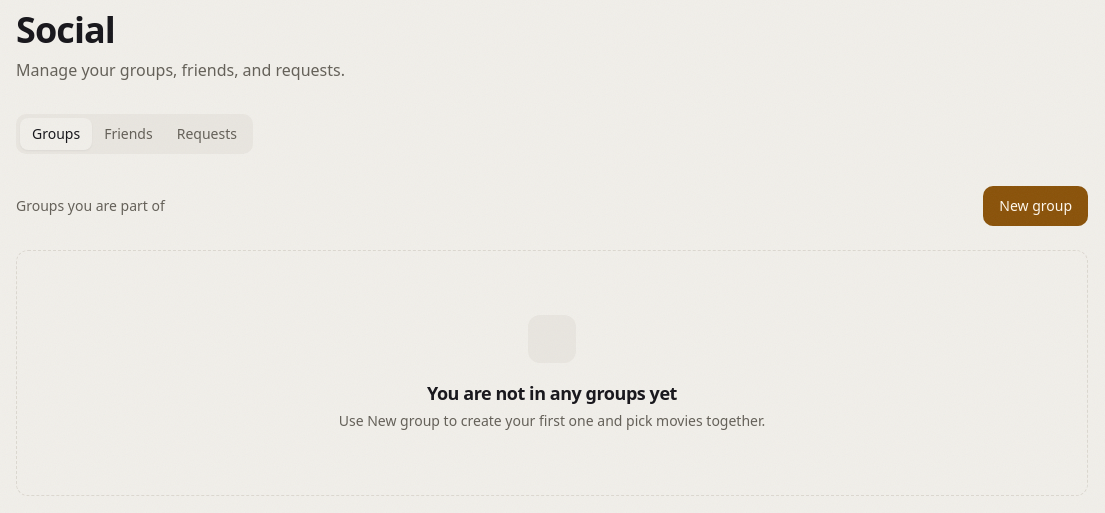
Scenario: SocialPage › usuário autenticado › REQ-1: troca de aba exibe conteúdo da aba selecionada
This screenshot has width=1105, height=513.
Check: the button "New group" is shown, box [983,186,1088,226]
Step 1. Click the tab "Friends" → point(128, 134), box [92,118,165,150]
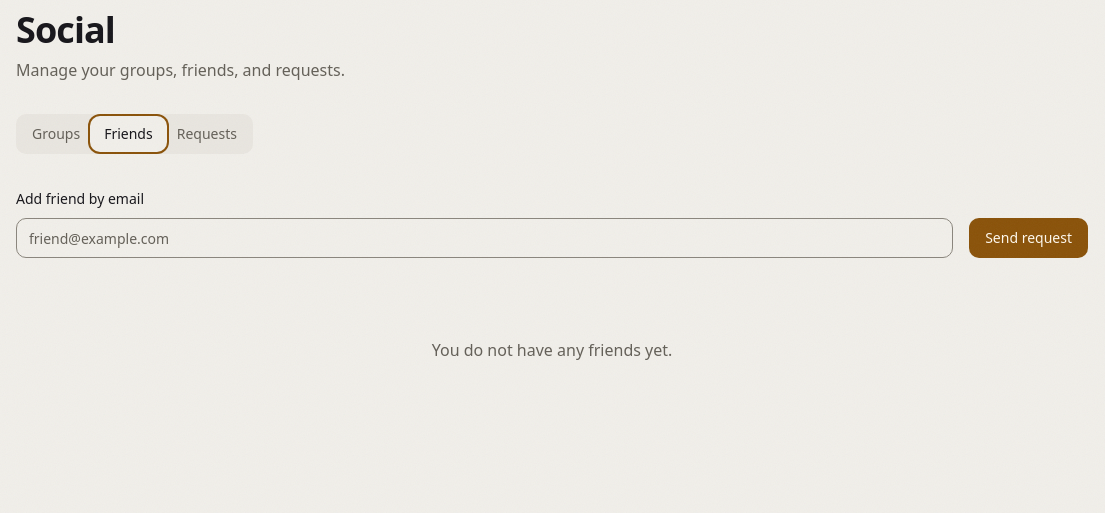
Check: the field labelled "Add friend by email" is shown, box [16,218,953,258]
Step 2. Click the tab "Requests" → point(207, 134), box [165,118,249,150]
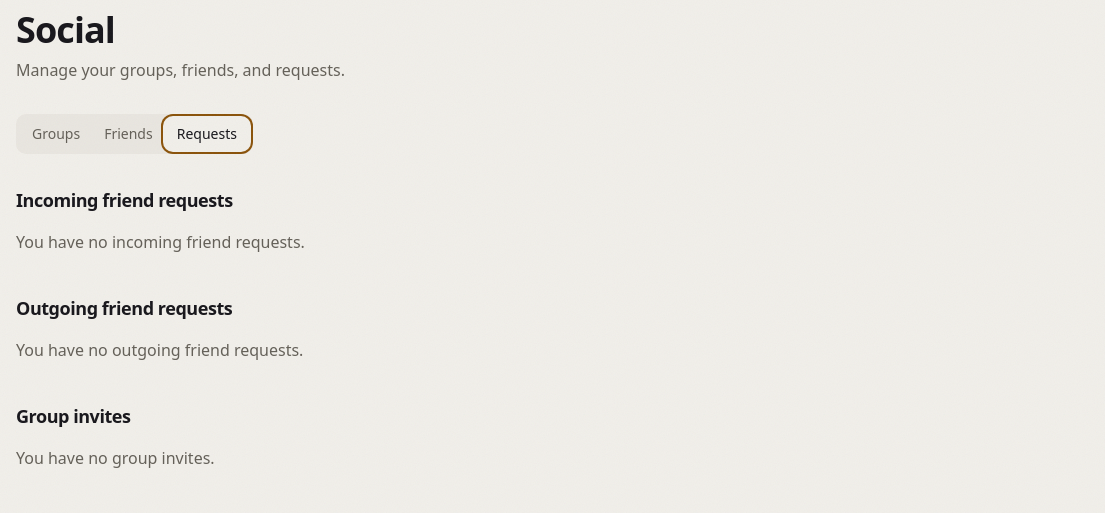
Check: the text "You have no incoming friend requests." is shown, box [16,231,305,253]
